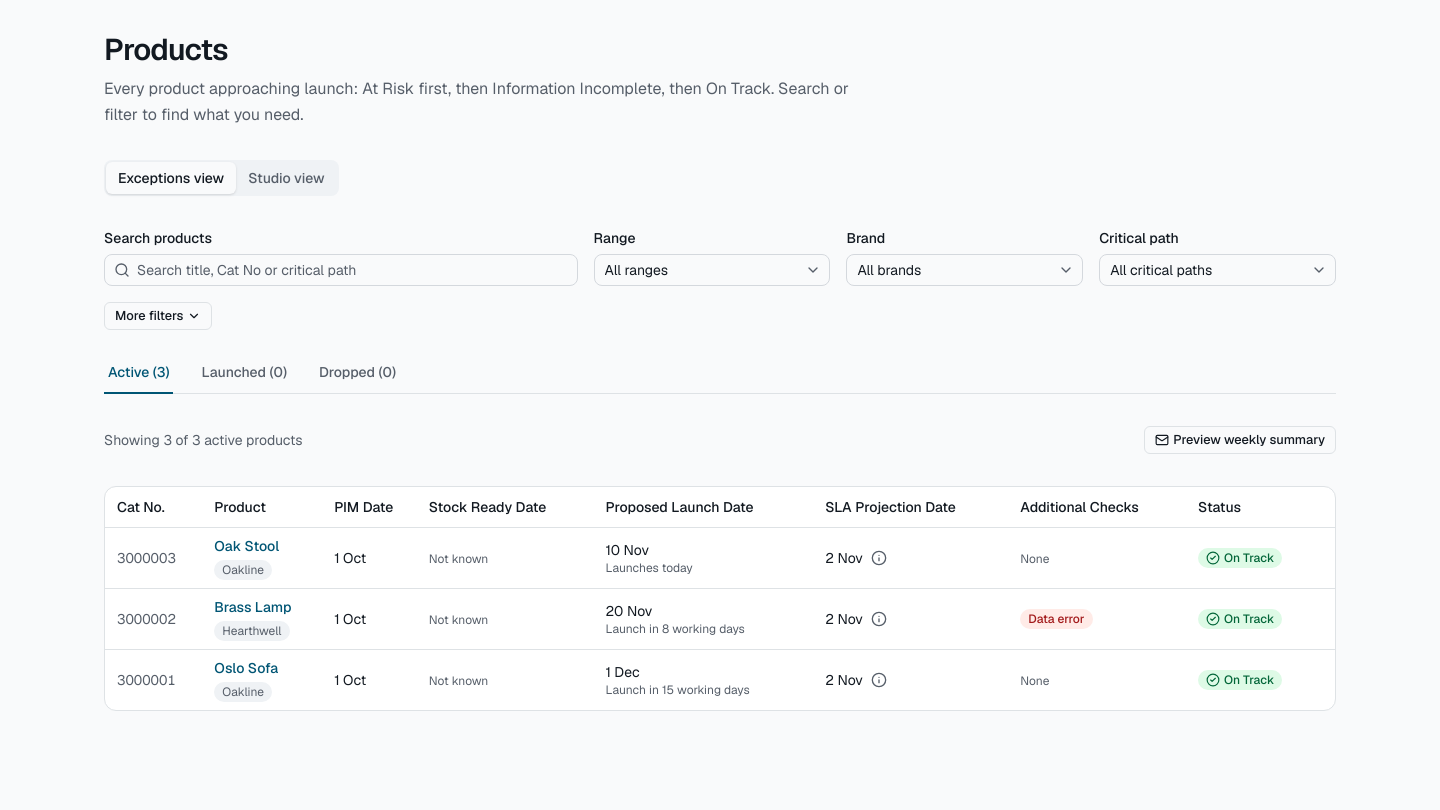
Studio filters › shows the critical path strip, without the status cards, when one path is selected
Click the button "Studio view" at (286, 178), box [236,162,337,194]
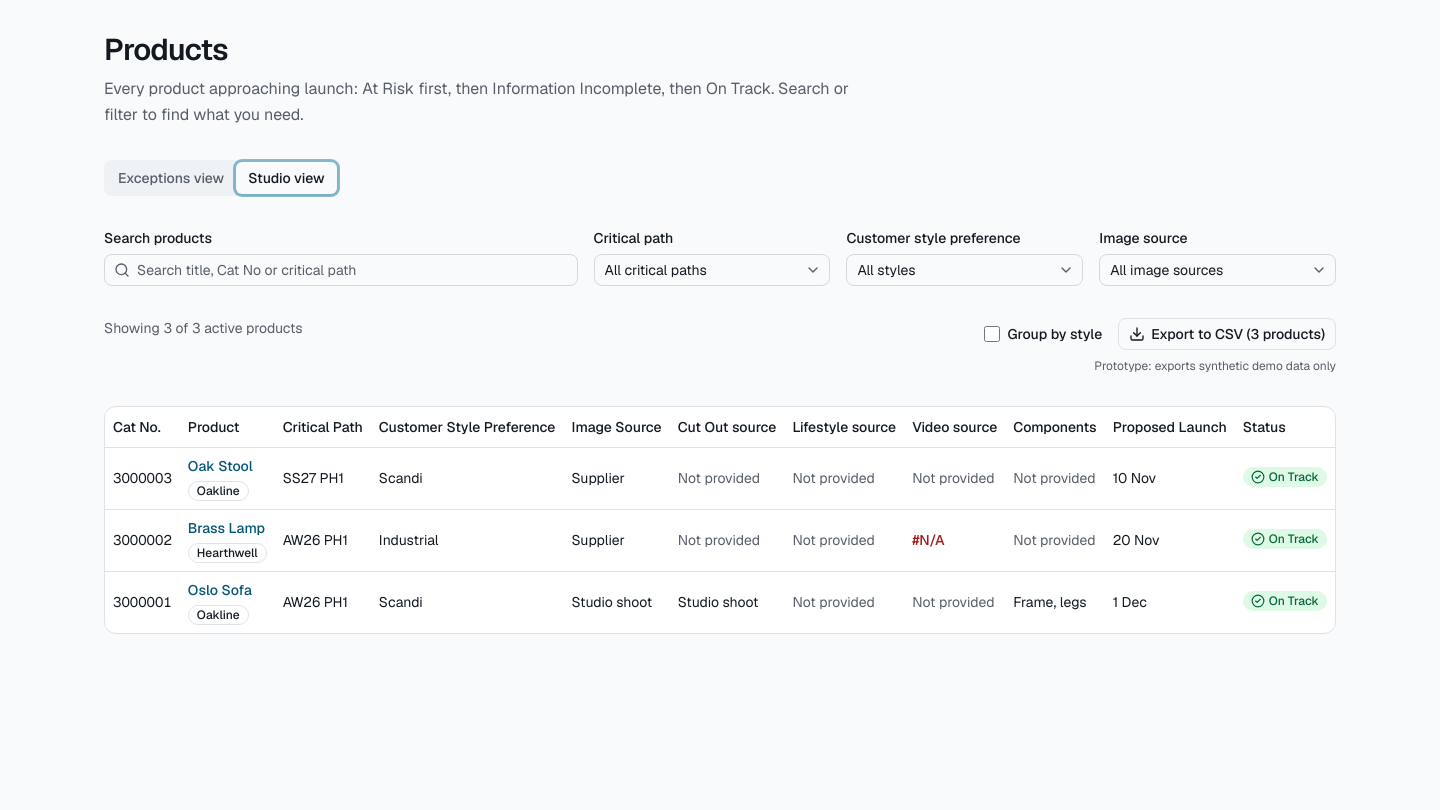
Expected: the text "active lines" is not shown
Click the dropdown labelled "critical path" at (712, 270), box [594,254,830,286]
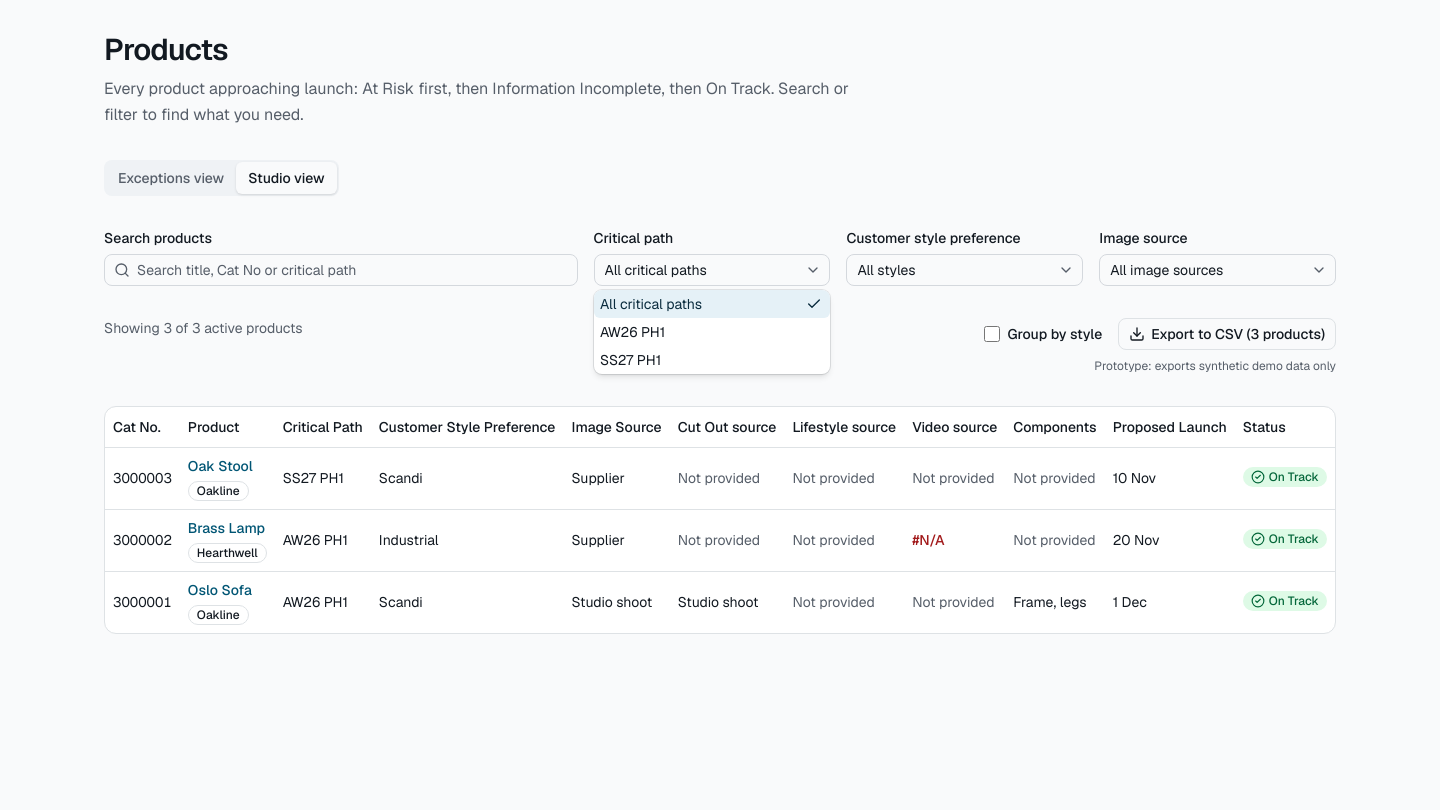
Click the option "AW26 PH1" at (633, 332), box [600,323,665,341]
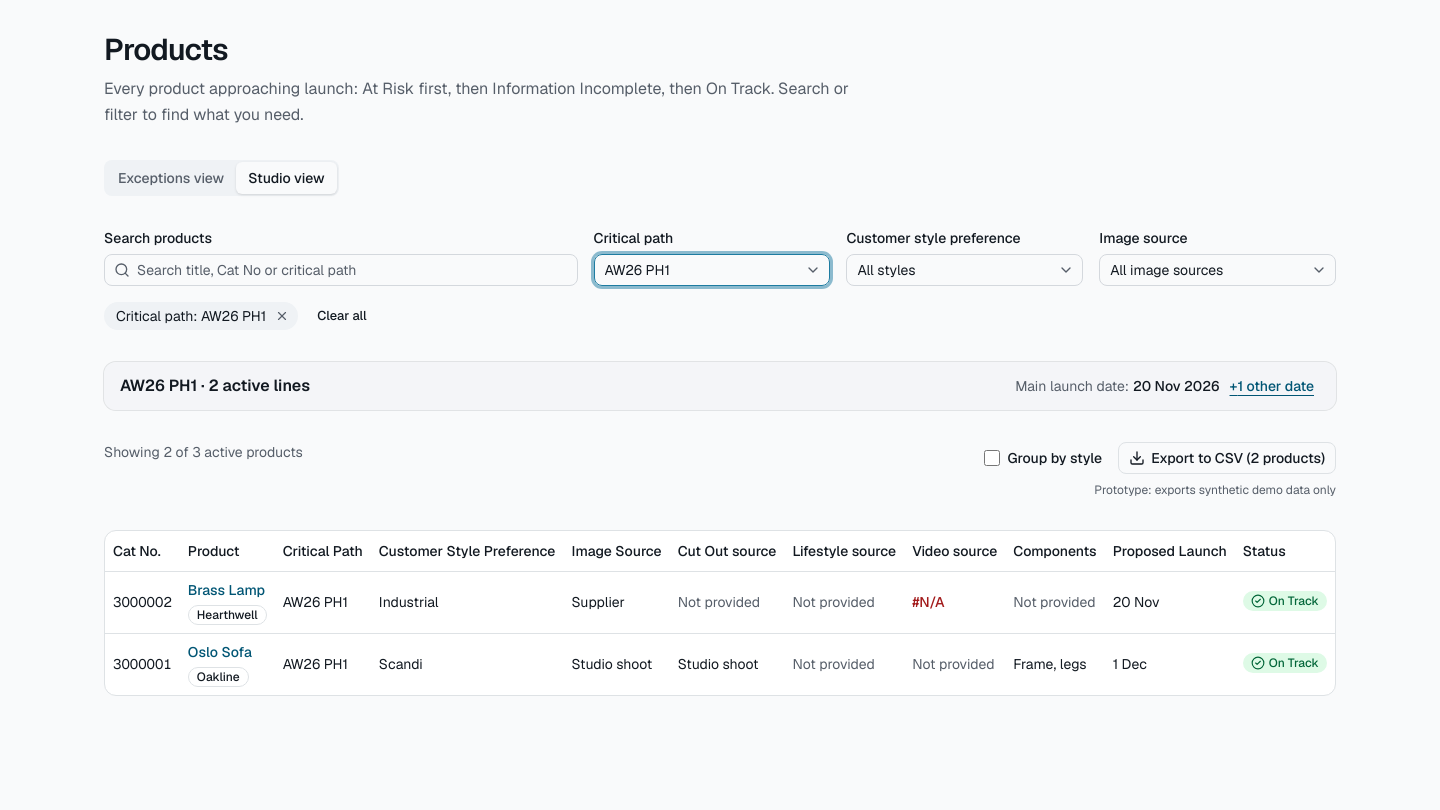
Now the text "AW26 PH1 · 2 active lines" is shown, box [120,374,310,398]
